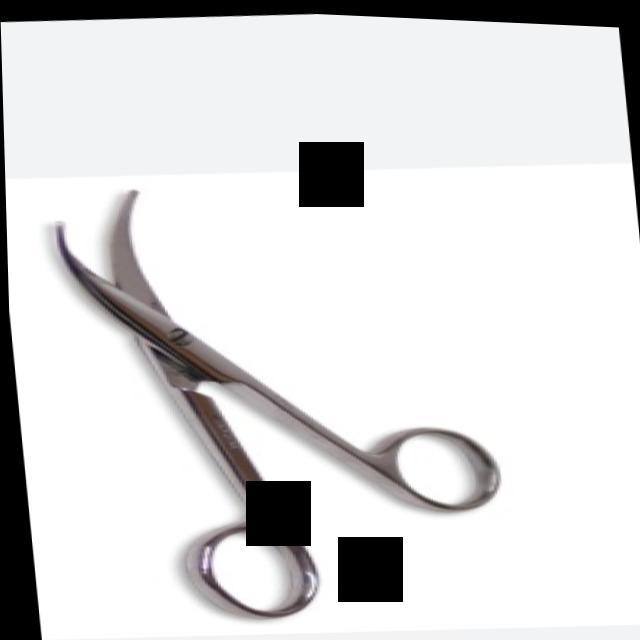Curved Mayo: (36, 159, 522, 640)
